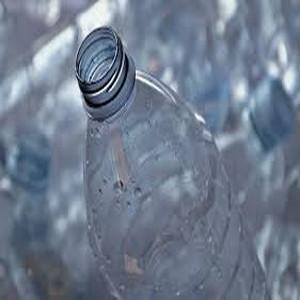Plastic: (72, 23, 278, 300)
